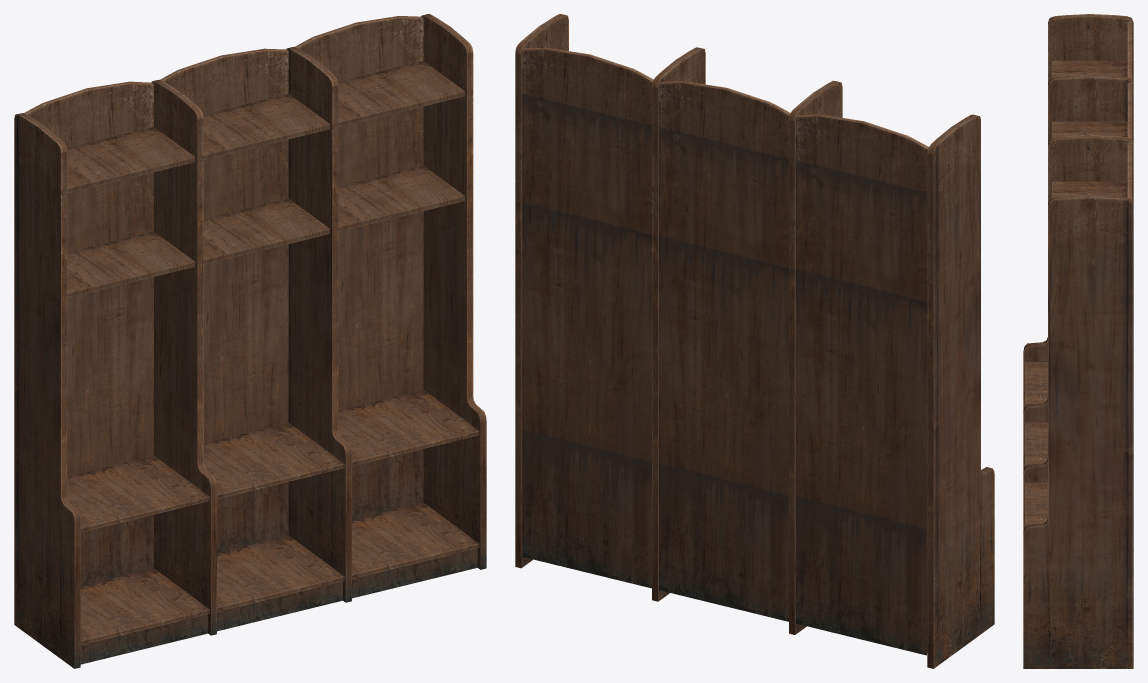
The model's file is BookShelf.fbx.
The picture shows the model from 3 angles, left to right: view 1: azimuth 30°, elevation 25°; view 2: azimuth 150°, elevation 25°; view 3: azimuth 270°, elevation 25°; orthographic projection. The views are drawn at different scales.
Visible parts, largest first — view 1: LV_Compagna_Object_DecoShelf_SM_NWCSTE; view 2: LV_Compagna_Object_DecoShelf_SM_NWCSTE; view 3: LV_Compagna_Object_DecoShelf_SM_NWCSTE.
Part boxes in pixels (x1,y1,x2,y2): LV_Compagna_Object_DecoShelf_SM_NWCSTE: [14, 14, 486, 668]; LV_Compagna_Object_DecoShelf_SM_NWCSTE: [515, 14, 994, 668]; LV_Compagna_Object_DecoShelf_SM_NWCSTE: [1023, 14, 1133, 668].
Size of the model in its own units: 0.6767 by 0.8155 by 0.1712.
Materials: 1 (1 with a texture image).
